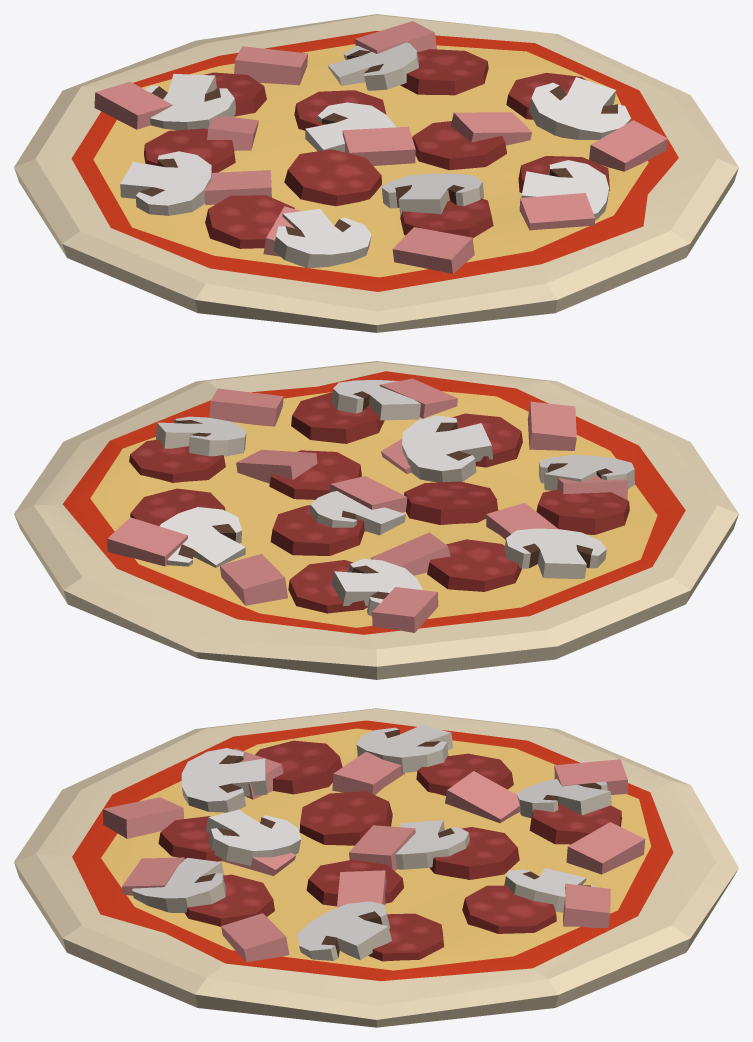
Rendered from SM_Prop_Food_Pizza_Raw_08.obj.
The picture shows the model from 3 angles, top to bottom: view 1: azimuth 30°, elevation 25°; view 2: azimuth 150°, elevation 25°; view 3: azimuth 270°, elevation 25°; orthographic projection.
Visible parts, largest first — view 1: SM_Prop_Food_Pizza_Raw_08_0; view 2: SM_Prop_Food_Pizza_Raw_08_0; view 3: SM_Prop_Food_Pizza_Raw_08_0.
Boxes of the visible parts, x1=… form: SM_Prop_Food_Pizza_Raw_08_0: x1=14, y1=14, x2=738, y2=332; SM_Prop_Food_Pizza_Raw_08_0: x1=14, y1=361, x2=738, y2=679; SM_Prop_Food_Pizza_Raw_08_0: x1=14, y1=708, x2=738, y2=1027.
Size of the model in its own units: 0.5817 by 0.046 by 0.5806.
1 material, 1 textured.
